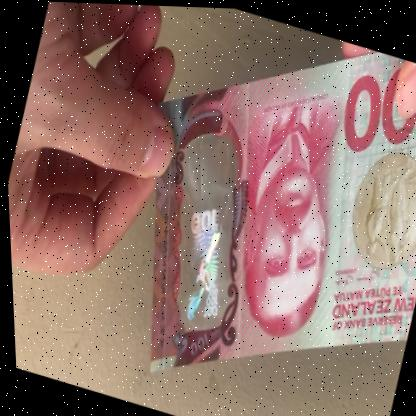100F: (146, 137, 257, 330)
